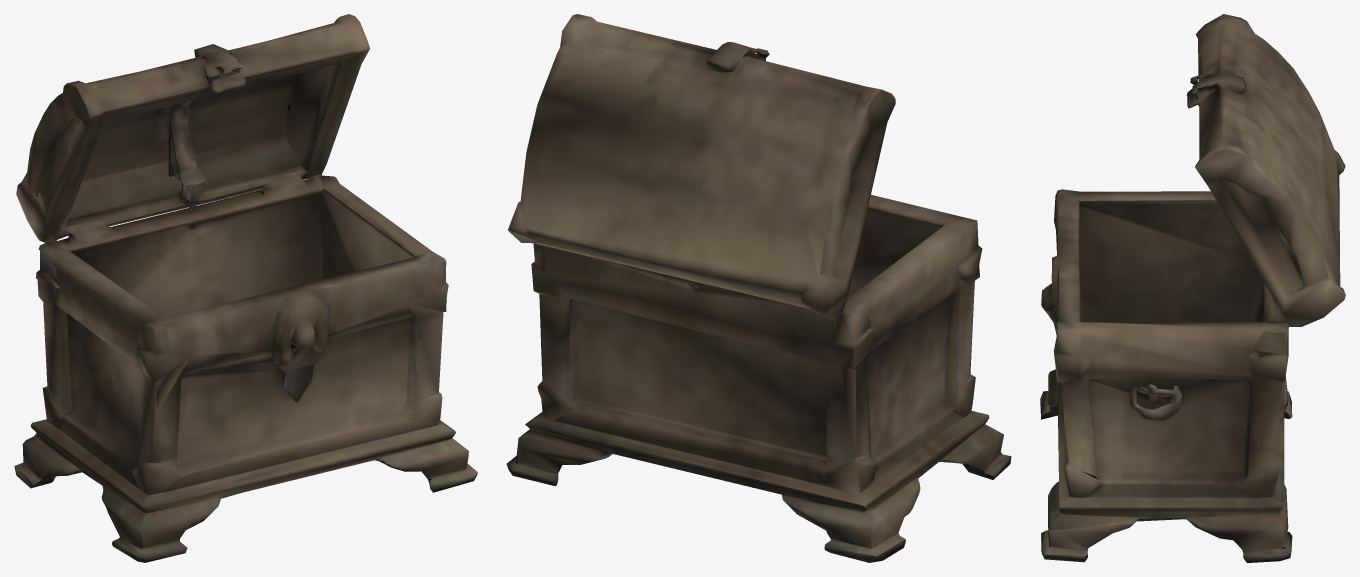
Rendered from chipped-wood-chest-v001.glb.
The picture shows the model from 3 angles, left to right: view 1: azimuth 30°, elevation 25°; view 2: azimuth 150°, elevation 25°; view 3: azimuth 270°, elevation 25°; orthographic projection. The views are drawn at different scales.
Parts seen in each view (by area): view 1: chipped-wood-chest; view 2: chipped-wood-chest; view 3: chipped-wood-chest.
Boxes of the visible parts, x1,y1,x2,y2 form: chipped-wood-chest: (14,14,477,562); chipped-wood-chest: (506,14,1011,562); chipped-wood-chest: (1040,14,1345,562).
Bounding box in the file's own units: 0.4741 × 0.5274 × 0.3643.
1 material, 1 textured.
